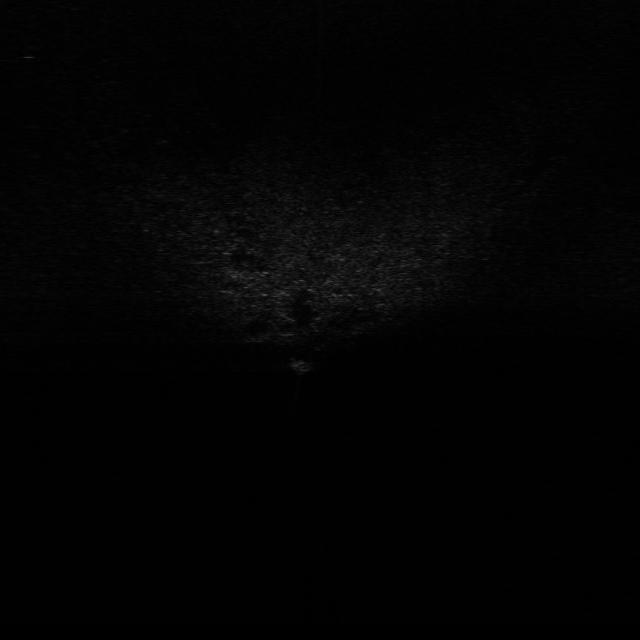cube: (287, 352, 322, 376)
